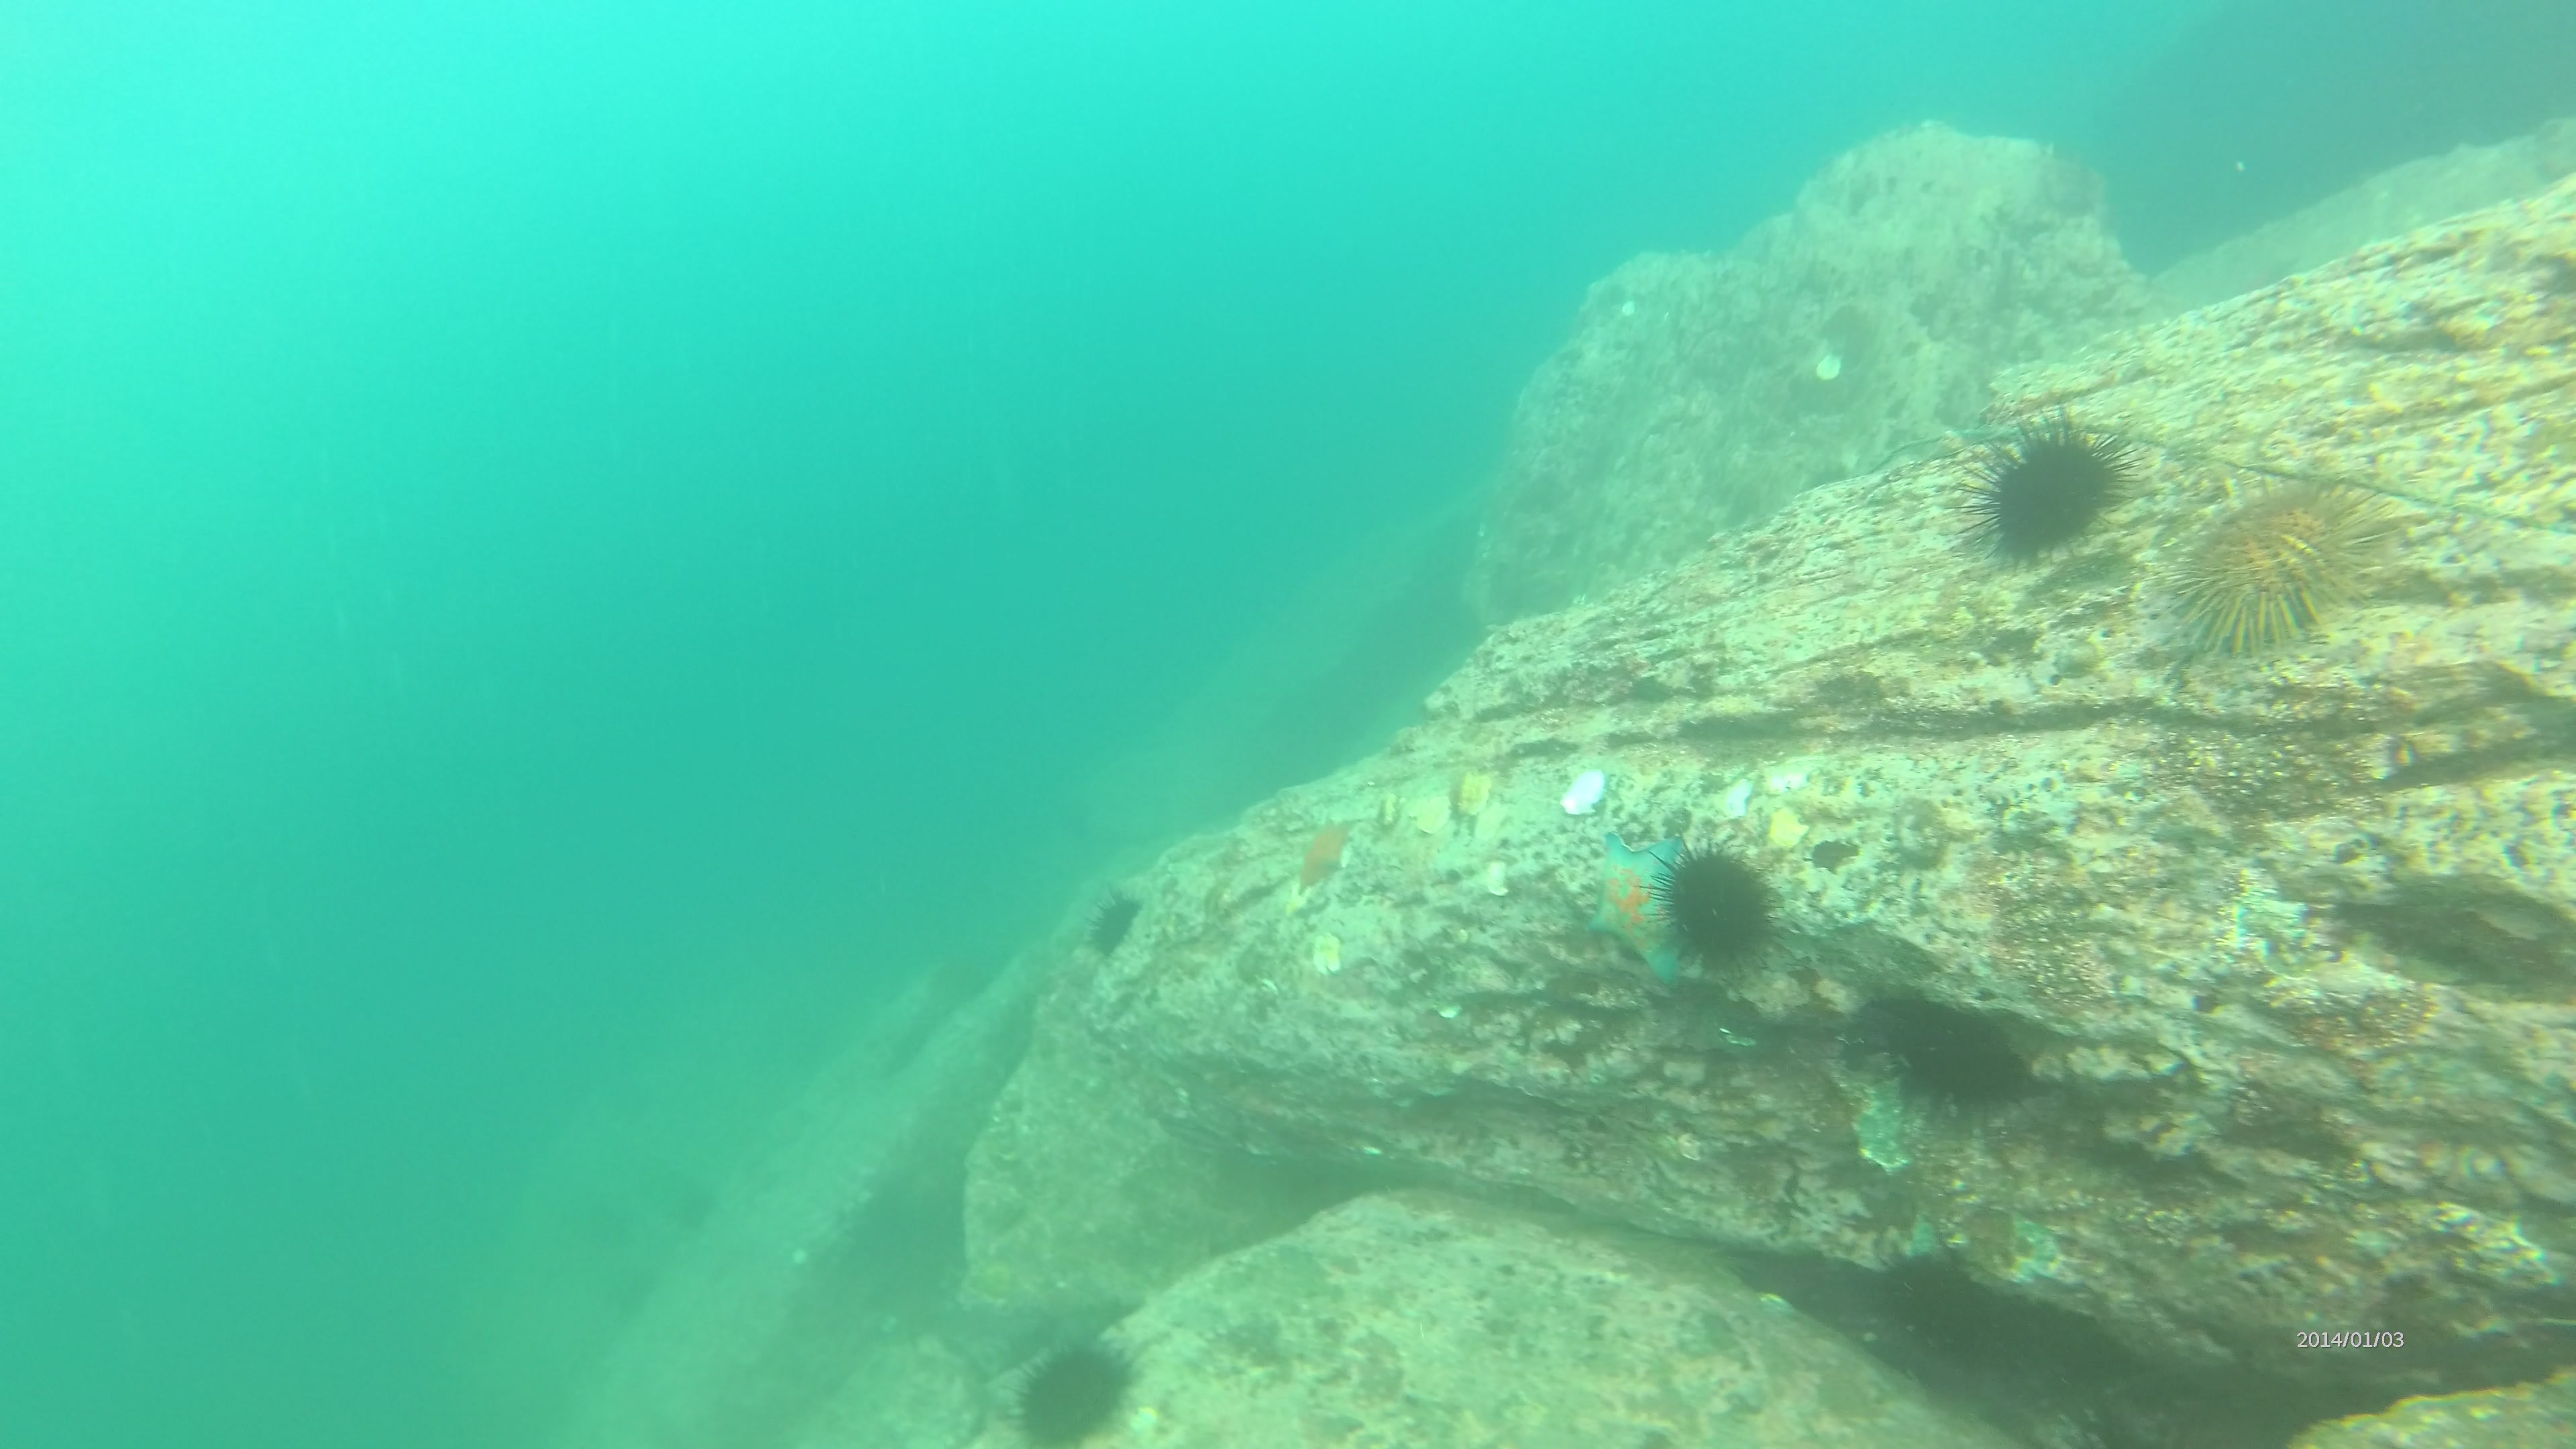echinus: (2171, 472, 2376, 646), (1955, 402, 2139, 570), (1867, 984, 2028, 1125), (1647, 840, 1780, 971), (1000, 1339, 1127, 1449), (1085, 885, 1141, 961)
starfish: (1582, 830, 1716, 991)
